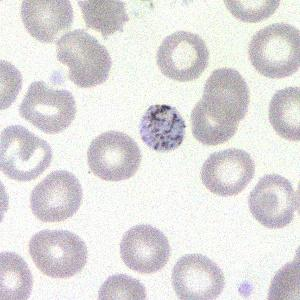Infected: (140, 101, 186, 152)
Uninfected: (56, 29, 112, 88), (19, 80, 77, 135), (249, 21, 300, 79), (29, 228, 87, 278), (157, 30, 210, 83), (29, 170, 82, 222), (199, 148, 254, 198), (87, 131, 140, 181), (0, 126, 49, 179), (248, 175, 295, 230), (173, 255, 226, 300), (202, 68, 249, 118), (118, 223, 168, 270), (21, 0, 74, 43), (191, 96, 236, 146), (78, 0, 128, 35), (269, 86, 300, 140), (0, 250, 32, 300), (99, 272, 146, 300)
